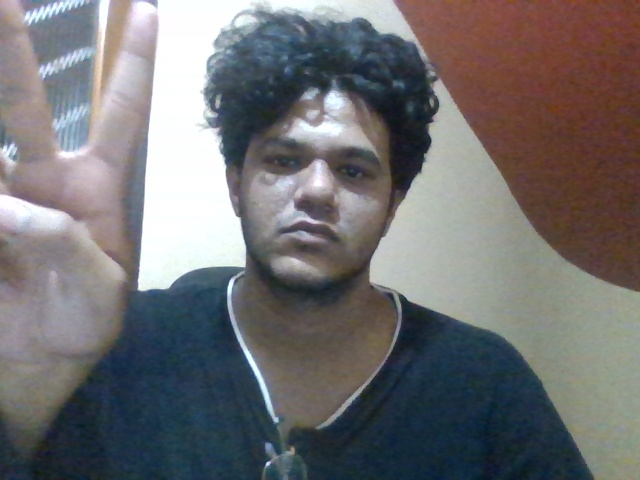yes: (1, 1, 179, 309)
